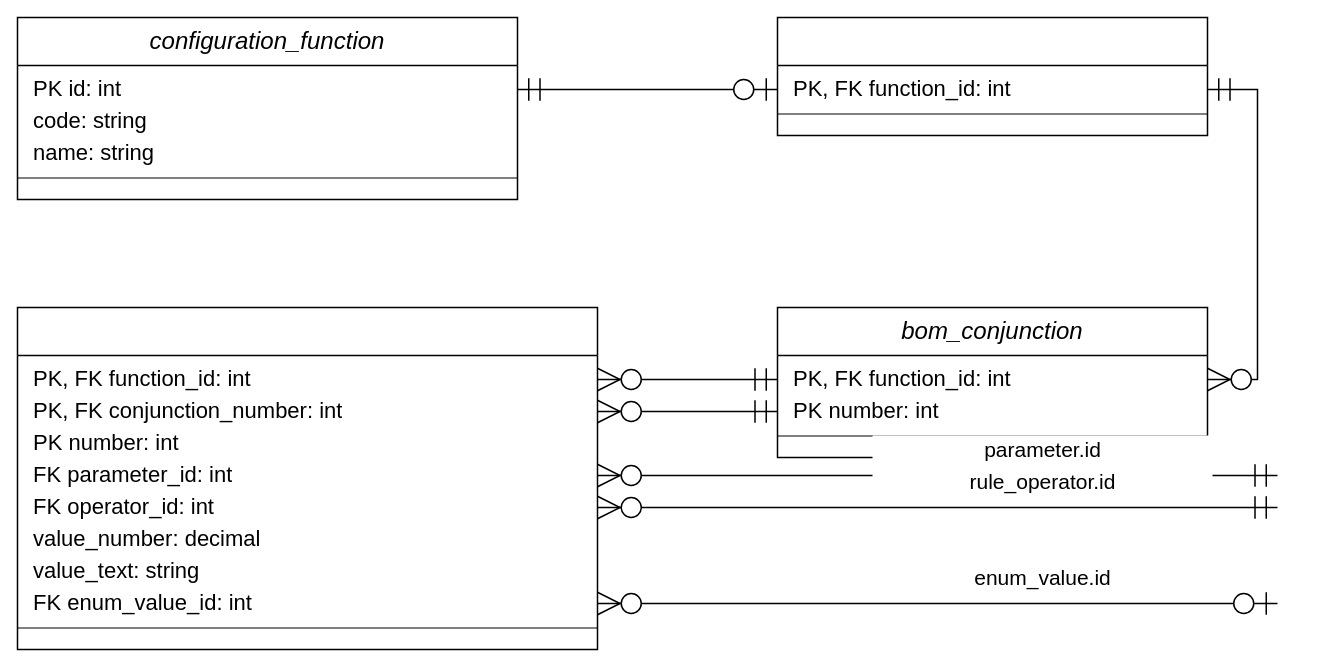
The diagram is 1319 pixels wide and 668 high, and some of its shapes have lost their labels. Here are the shapes that lost their labels. From the top down, the box of each, then its label:
(776, 16, 1208, 136): bom_function
(16, 306, 598, 650): bom_predicate
